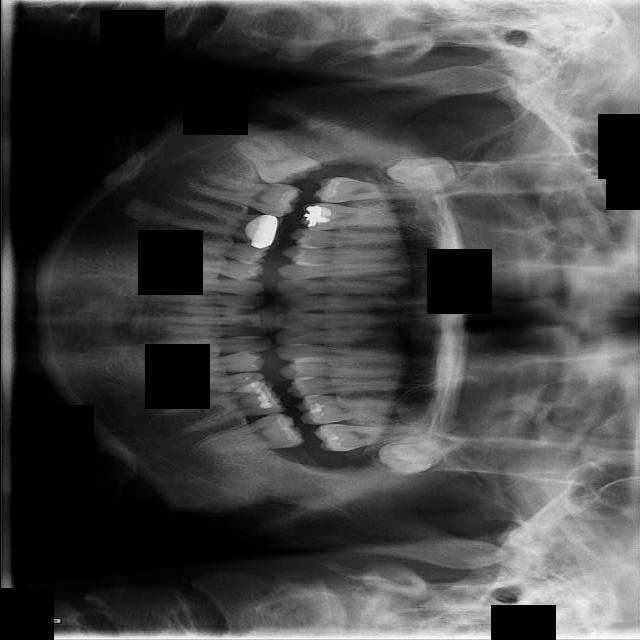3M ESPE Implant: (386, 158, 454, 192)
52: (253, 174, 308, 229), (235, 373, 286, 427), (256, 403, 305, 457), (310, 414, 358, 465), (241, 209, 282, 251), (294, 391, 339, 427), (310, 172, 355, 206), (300, 201, 340, 231)
BioHorizons Implant: (312, 423, 441, 453)
BioLife Implant: (376, 437, 458, 478)
Blue Sky Bio Implant: (192, 411, 304, 457)
Caries: (311, 177, 446, 203)
Implant: (189, 171, 303, 220)
Keystone Dental Implant: (226, 121, 326, 205)
